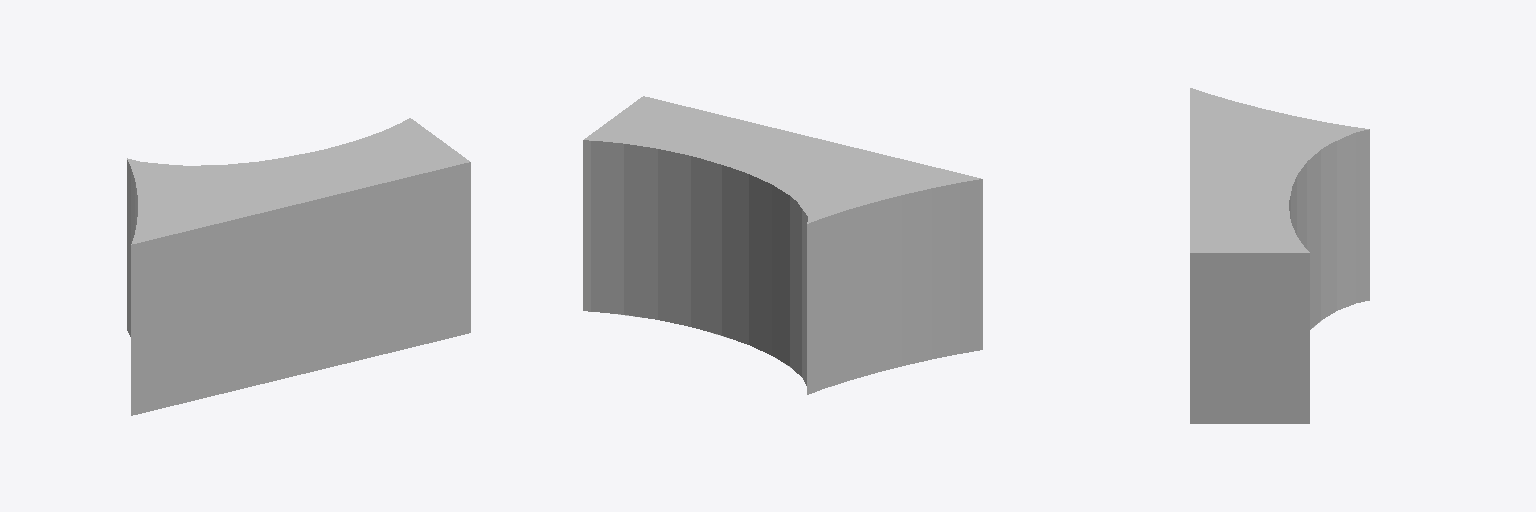
File: placeholder_left-downV3.obj
3 views of the same model, side by side, from view 1: azimuth 30°, elevation 25°; view 2: azimuth 150°, elevation 25°; view 3: azimuth 270°, elevation 25° (orthographic).
Visible parts, largest first — view 1: Cube.001_Cube; view 2: Cube.001_Cube; view 3: Cube.001_Cube.
Part boxes in pixels (x1,y1,x2,y2): Cube.001_Cube: (127, 118, 470, 415); Cube.001_Cube: (583, 96, 982, 394); Cube.001_Cube: (1190, 88, 1369, 423).
Bounding box in the file's own units: 4.15 × 2 × 1.91.